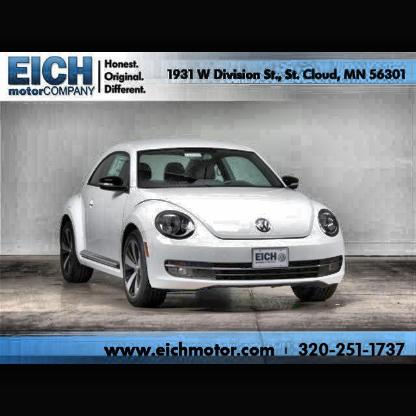Volkswagen Beetle Hatchback 2012: (60, 137, 347, 312)
